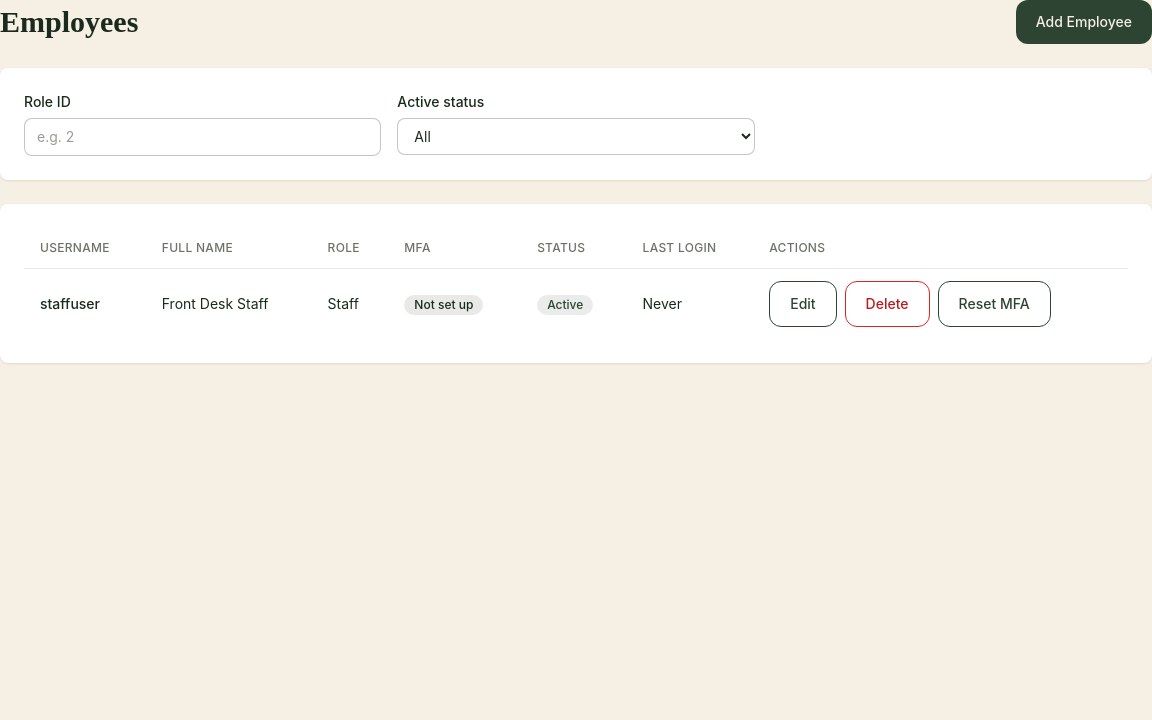
Test: EmployeesPage delete › shows the server message when the employee is in booking history (409)
Expected: the text "staffuser" is shown, [24,268,146,339]
Click the button "Delete": (887, 304) [845,281,930,327]
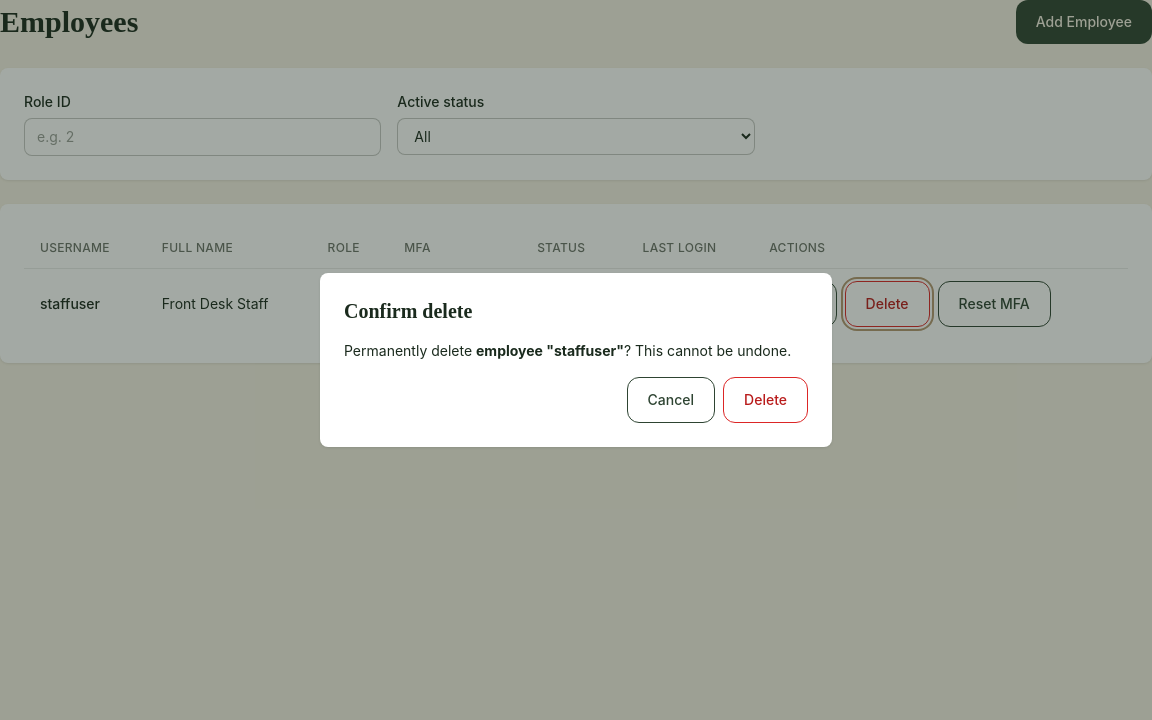
Click the button "Delete": (766, 400) [723,377,808,423]
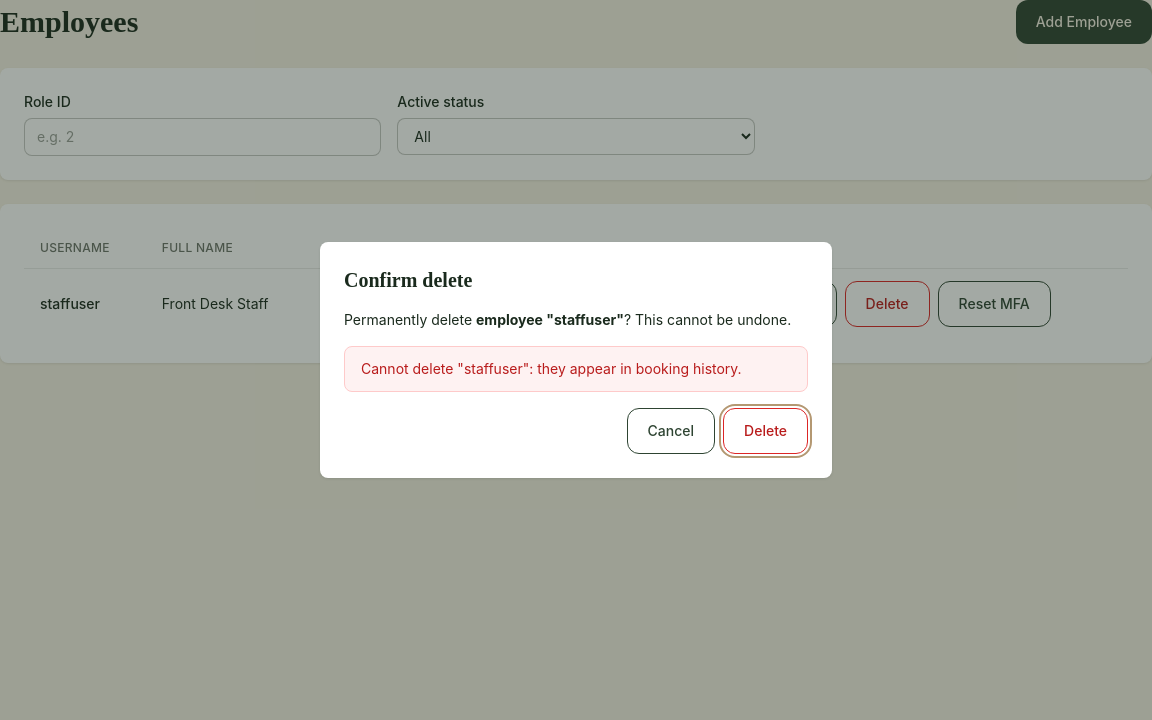
Expected: the text "Cannot delete \"staffuser\": they appear in booking history." is shown, [344,346,808,392]
